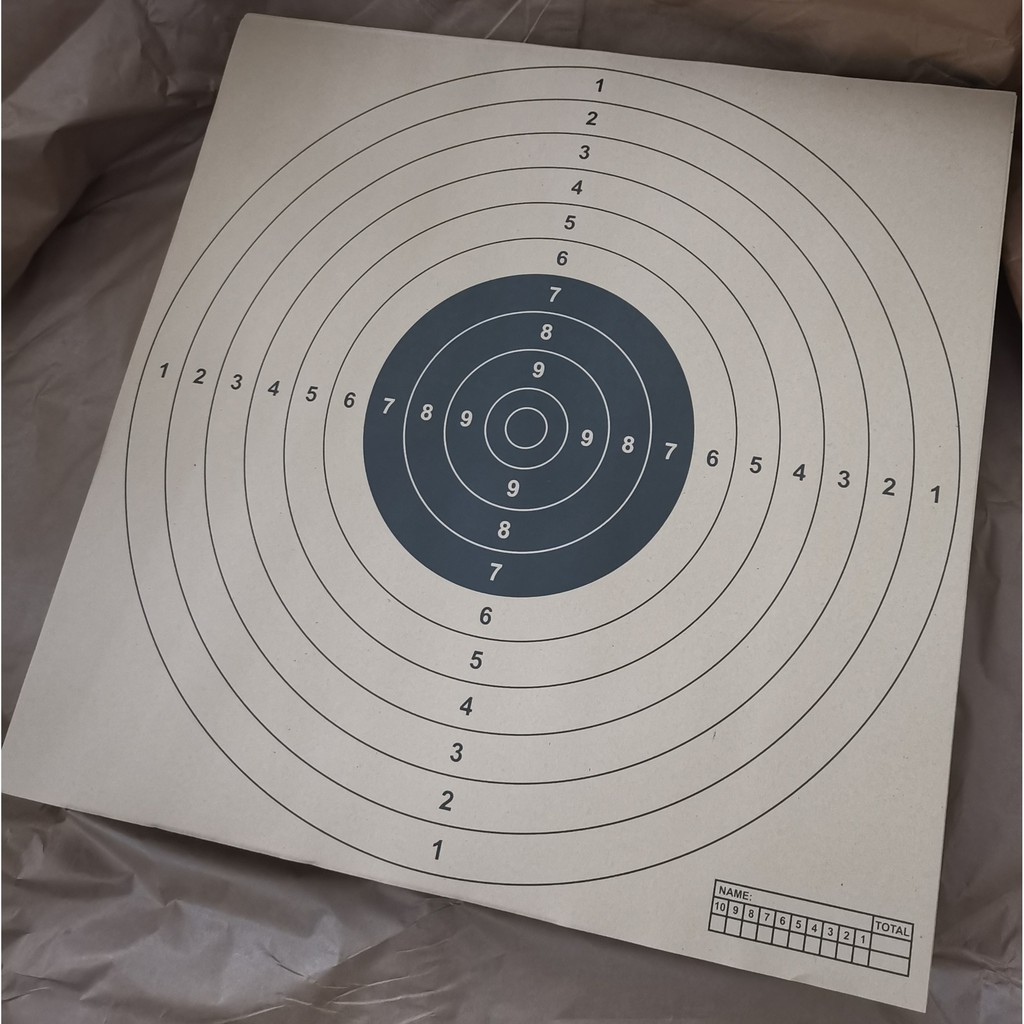target: (110, 30, 992, 902)
